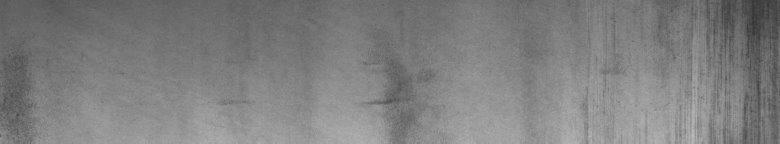ka: (583, 4, 776, 136)
